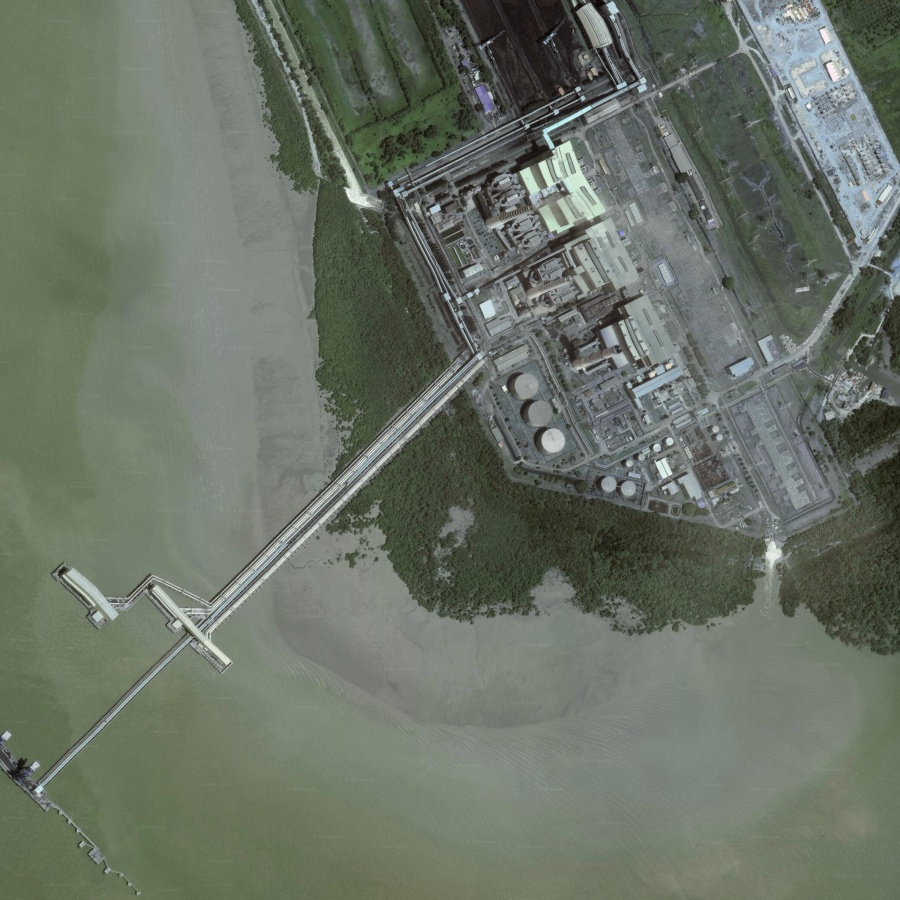PowerPlant: (410, 155, 775, 517)
